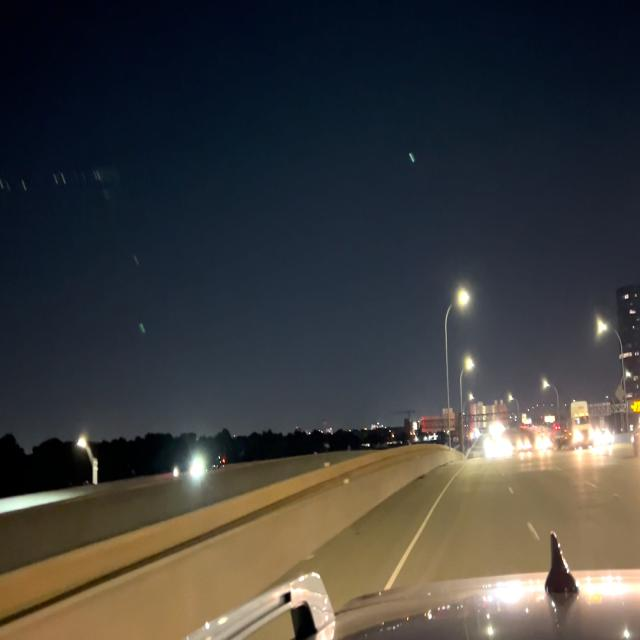back-of-sign: (469, 400, 510, 429), (421, 405, 457, 435)
